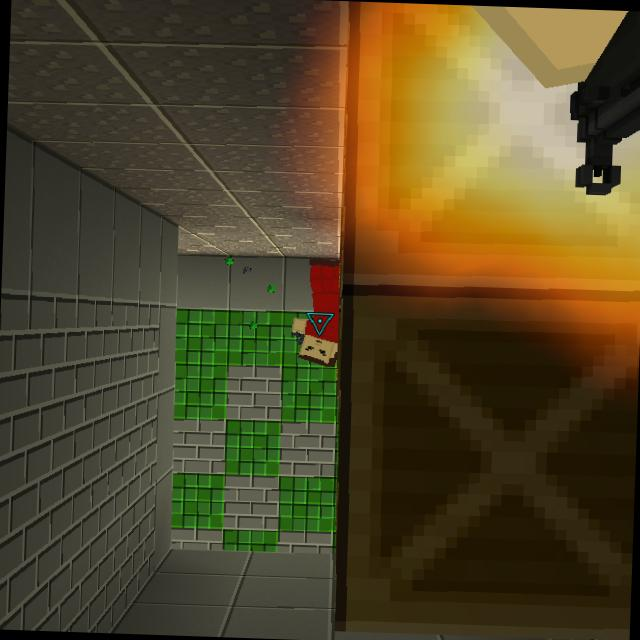enemy: (290, 254, 341, 371)
